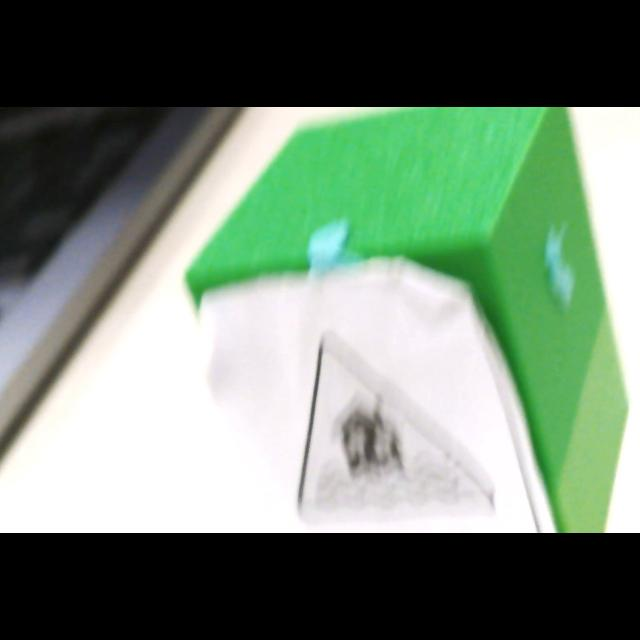Tsunami: (298, 332, 494, 522)
